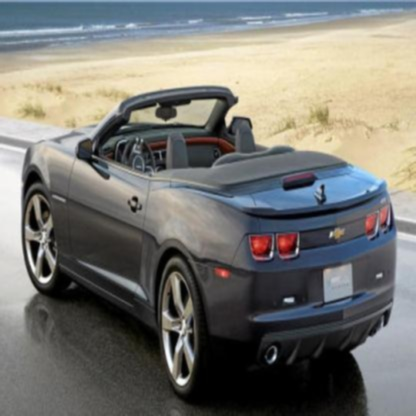Vehicle: (19, 78, 401, 408)
